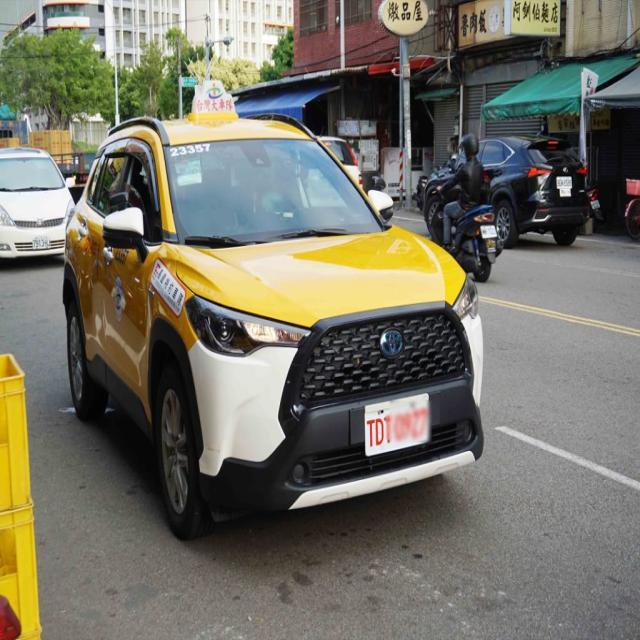Taxi: (64, 105, 484, 538)
